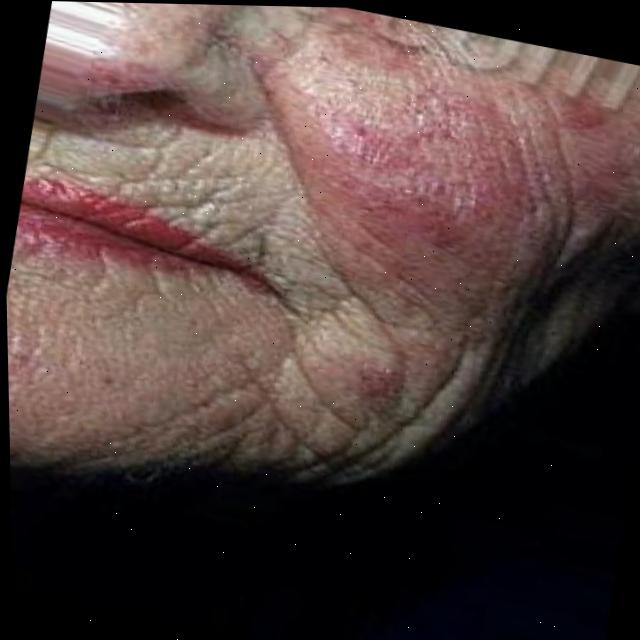Rosacea: (300, 29, 529, 250), (357, 351, 389, 392)
